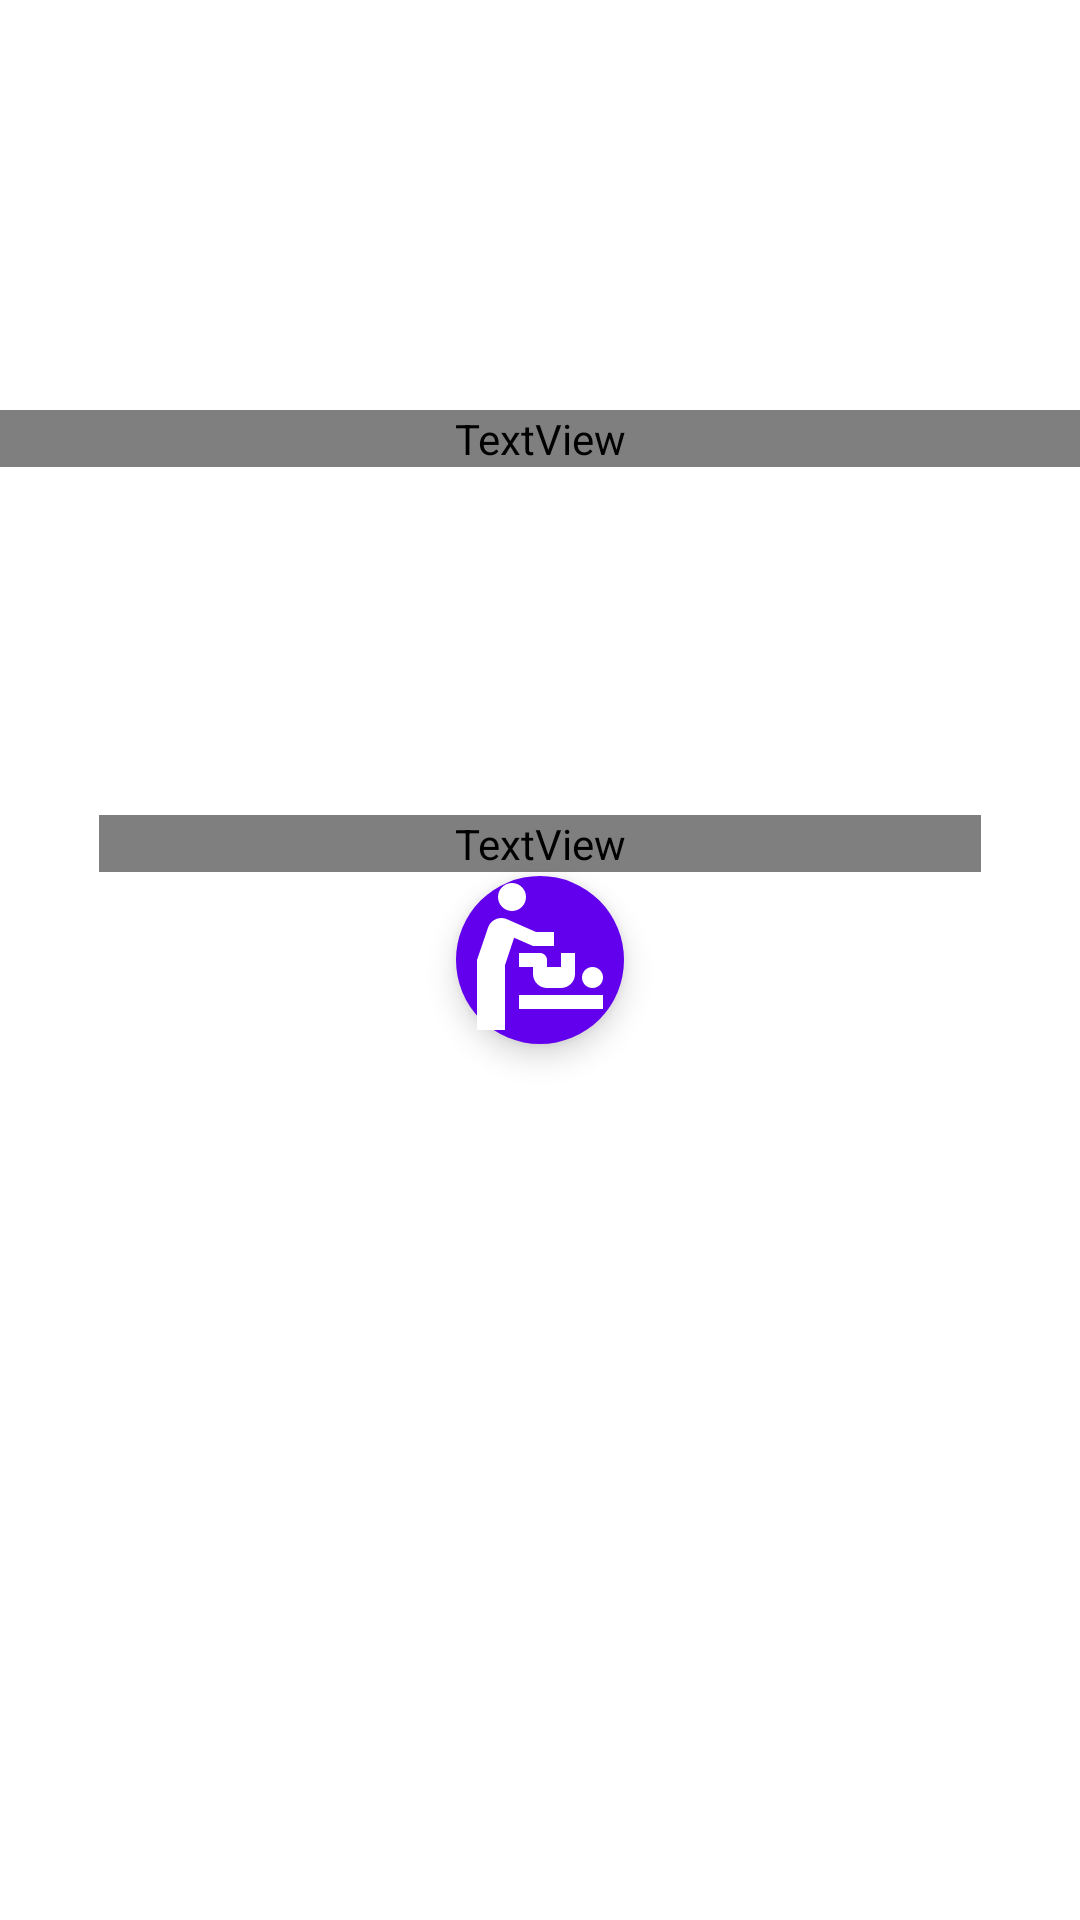

Point at icon controls on the screen. Image size 1080 × 1920, points as point (x, y).
baby changing station: point (540, 960)
